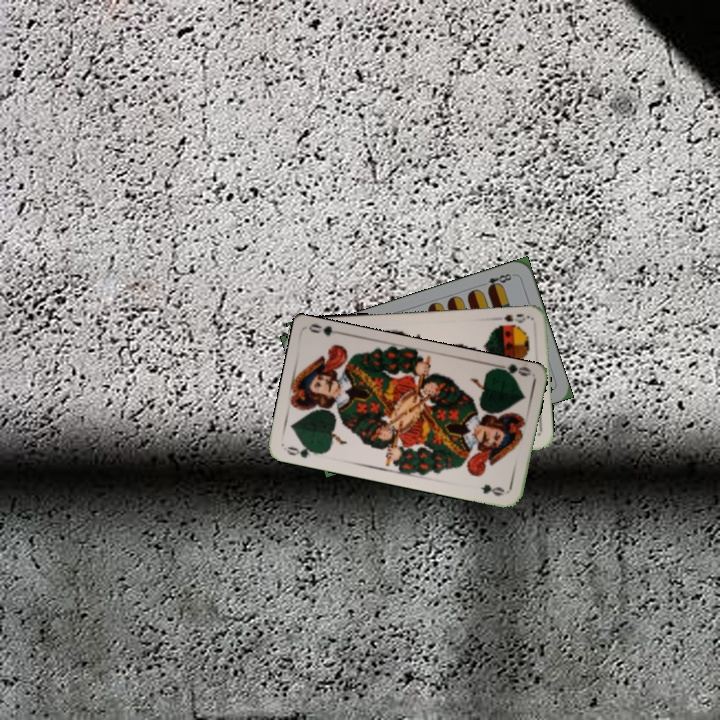E8: (477, 269, 517, 293)
GO: (491, 360, 532, 382), (283, 441, 322, 461)
SO: (500, 310, 531, 325)
